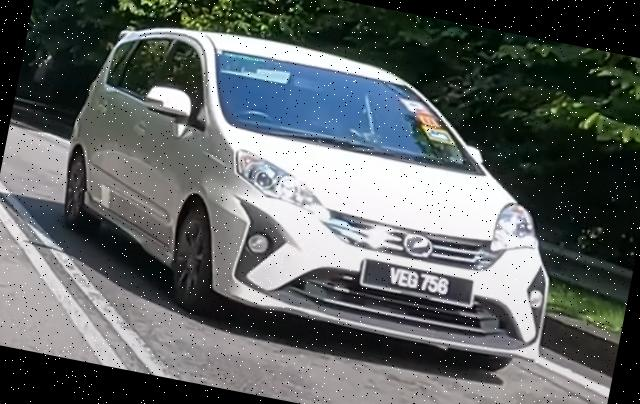License_Plate: (356, 256, 479, 310)
car: (42, 6, 590, 382)
